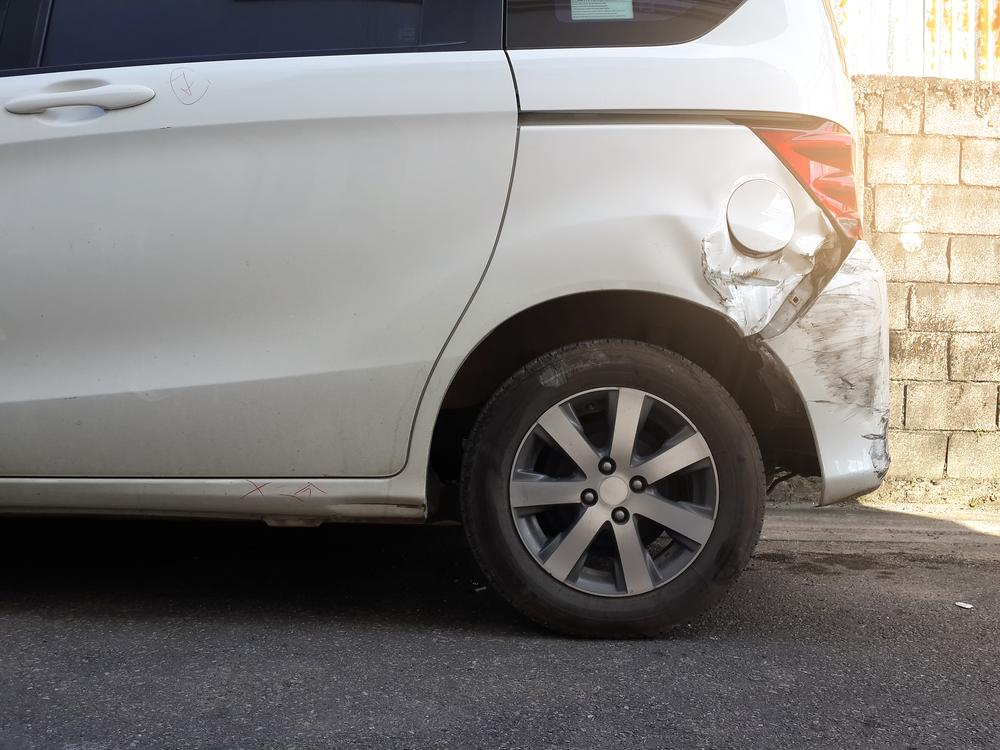dent: (657, 213, 833, 335)
scratch: (791, 245, 889, 482)
